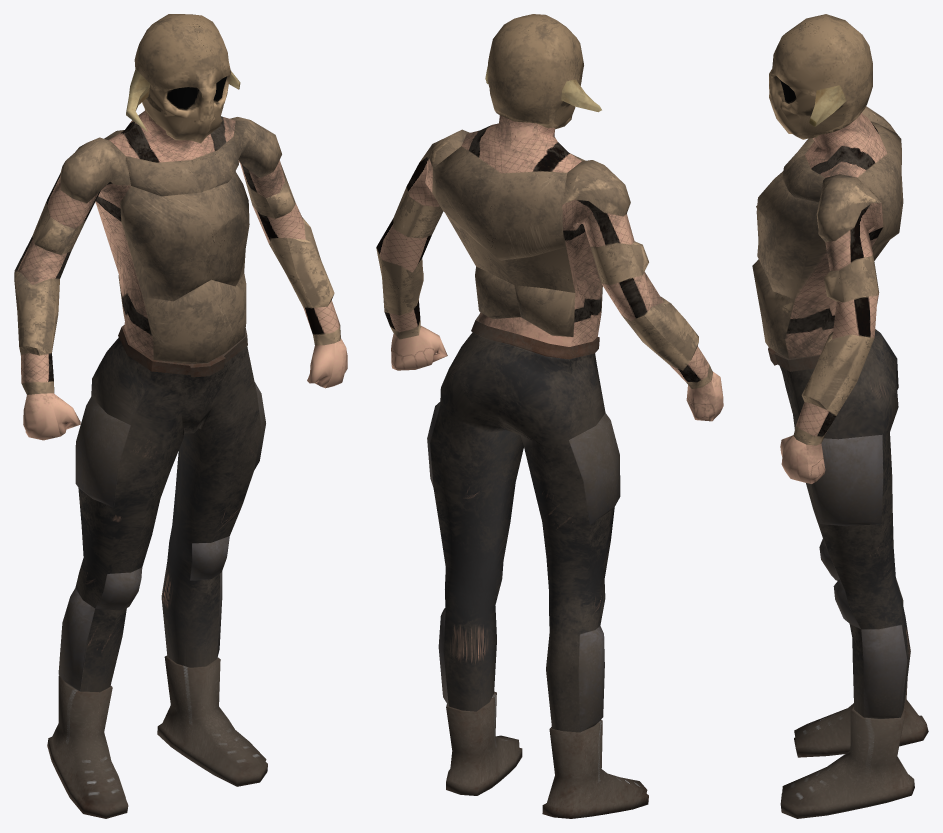
The model's file is Anim_cogerobjeto_npc1.0039.obj.
The picture shows the model from 3 angles, left to right: view 1: azimuth 30°, elevation 25°; view 2: azimuth 150°, elevation 25°; view 3: azimuth 270°, elevation 25°; orthographic projection.
Parts seen in each view (by area): view 1: NPC2; view 2: NPC2; view 3: NPC2.
Part boxes in pixels (x1,y1,x2,y2): NPC2: (14,14,347,818); NPC2: (376,14,723,818); NPC2: (752,14,928,818).
Size of the model in its own units: 4.33 by 9.8 by 2.03.
